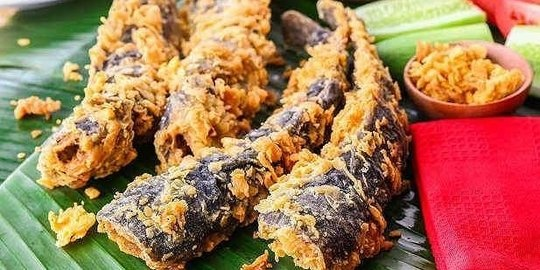pecel_lele: (265, 0, 413, 269)
